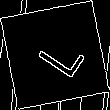L_NW: (25, 28, 85, 82)
